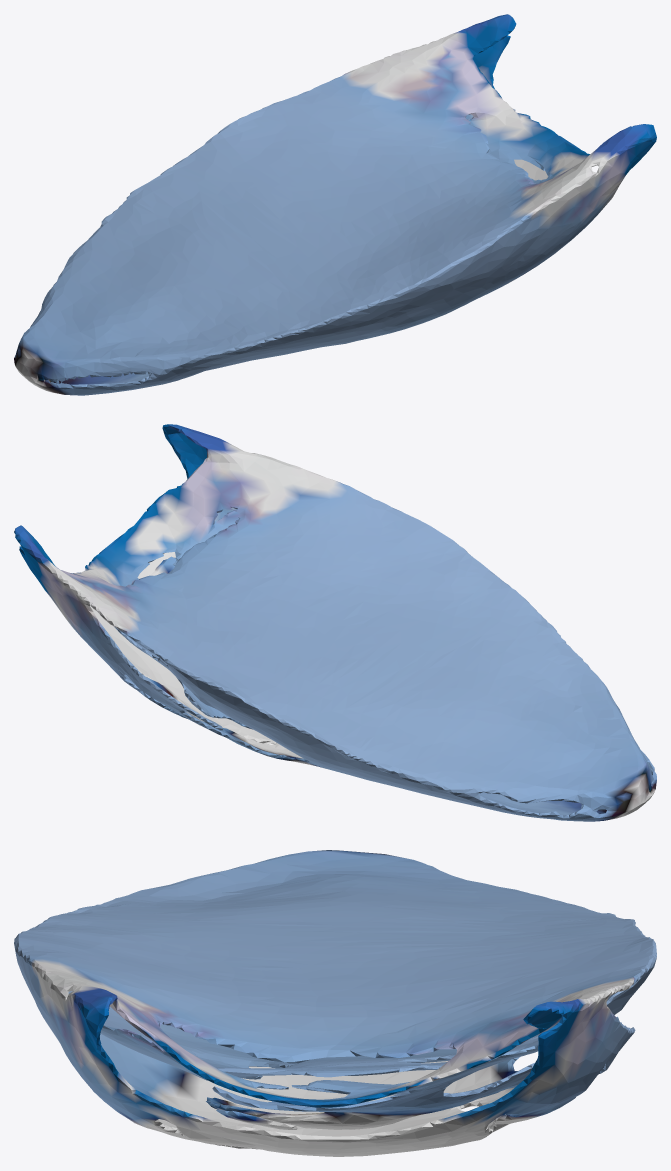
File: dragon_blue_scale.glb
The picture shows the model from 3 angles, top to bottom: view 1: azimuth 30°, elevation 25°; view 2: azimuth 150°, elevation 25°; view 3: azimuth 270°, elevation 25°; orthographic projection. The views are drawn at different scales.
Parts seen in each view (by area): view 1: geometry_0; view 2: geometry_0; view 3: geometry_0.
Part boxes in pixels (x1=…): geometry_0: x1=14, y1=14, x2=656, y2=395; geometry_0: x1=14, y1=424, x2=656, y2=821; geometry_0: x1=14, y1=850, x2=656, y2=1156.
Bounding box in the file's own units: 0.7188 × 0.2515 × 0.474.
